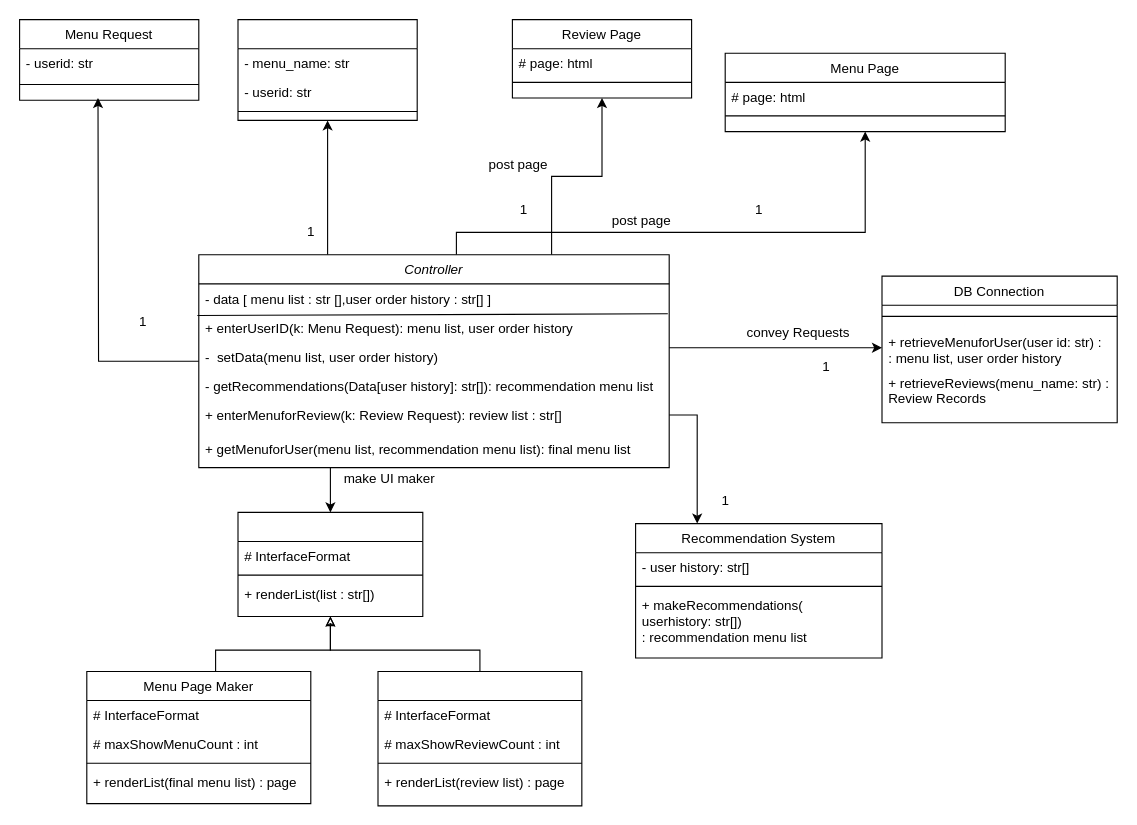
The diagram is 1137 pixels wide and 825 high, and some of its shapes have lost their labels. Each missing label, with the box of its shape:
Page Maker: (237, 511, 423, 617)
Review Page Maker: (377, 670, 582, 806)
Review Request: (237, 18, 417, 120)
